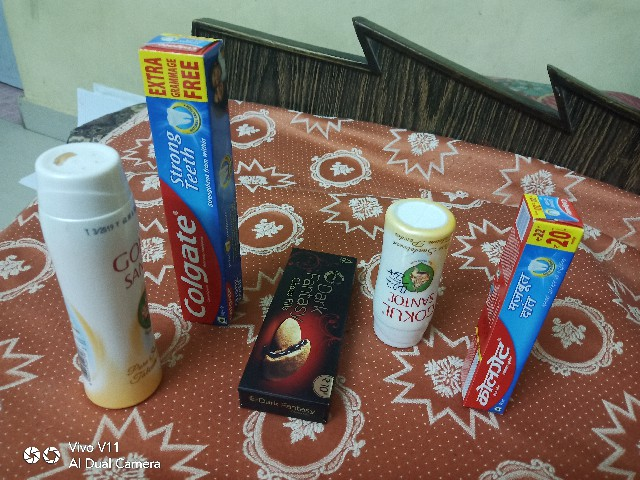colgatetoothpaste big: (135, 27, 256, 335)
colgatetoothpaste small: (463, 180, 602, 426)
darkfantasy small: (242, 230, 363, 437)
gokulsantol big: (26, 129, 158, 423)
gokulsantol small: (360, 172, 458, 358)
